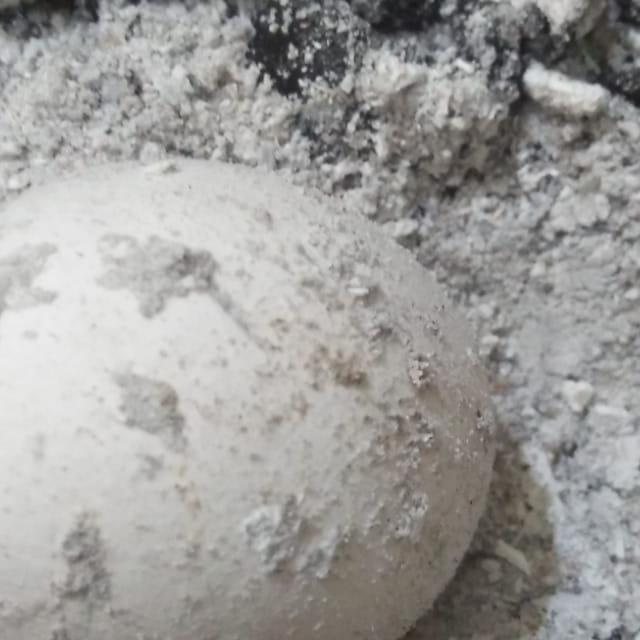egg: (0, 151, 501, 640)
